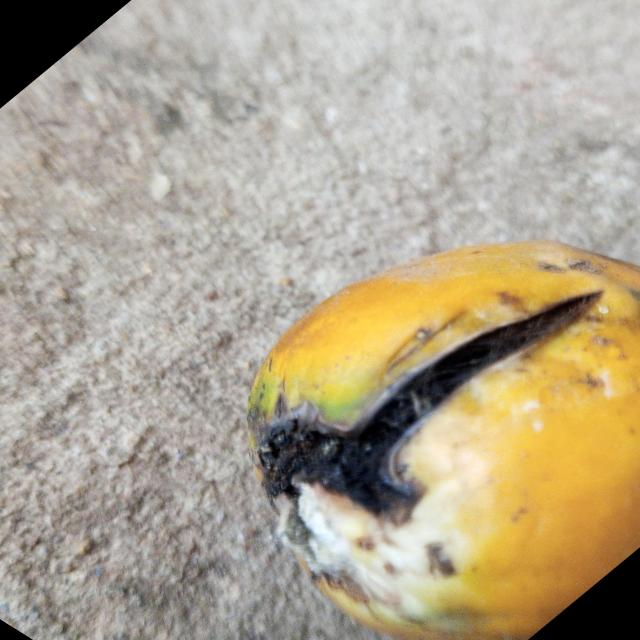damaged: (248, 241, 640, 640)
